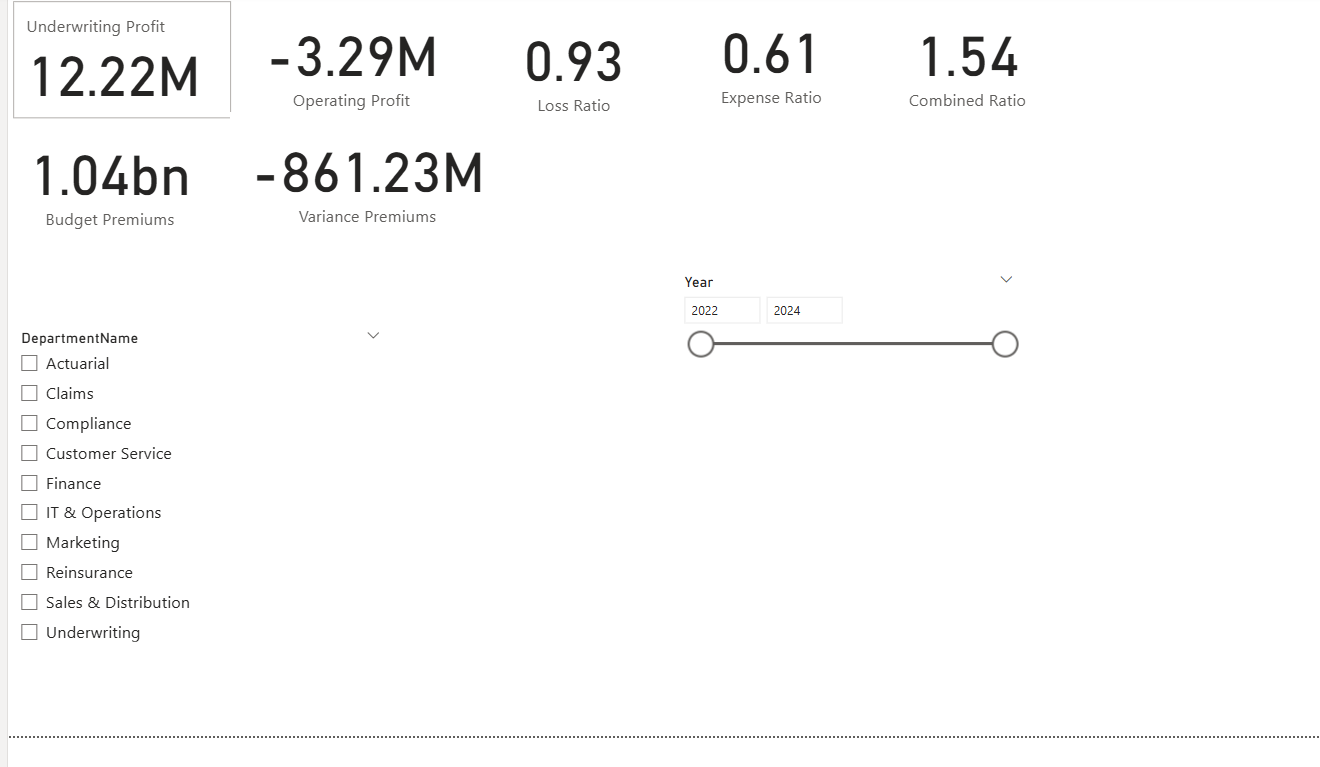

The page's visual inventory and layout, read from the dashboard file:
{"tool":"powerbi","page":{"name":"Page 1","canvas":[1280,720],"ordinal":0},"visuals":[{"type":"cardVisual","fields":{"Data":["fact_financials.Underwriting Profit"]},"box":[0,0,222.7,124.5],"z":0},{"type":"card","fields":{"Values":["fact_financials.Loss Ratio"]},"box":[445.5,9.7,210.1,114.8],"z":1000},{"type":"card","fields":{"Values":["fact_financials.Operating Profit"]},"box":[222.7,4.9,222.7,114.8],"z":2000},{"type":"card","fields":{"Values":["fact_financials.Expense Ratio"]},"box":[631.2,0,222.7,119.6],"z":3000},{"type":"card","fields":{"Values":["fact_financials.Combined Ratio"]},"box":[821.9,0,222.7,124.5],"z":4000},{"type":"card","fields":{"Values":["fact_financials.Budget Premiums"]},"box":[0,119.6,198.4,117.7],"z":5000},{"type":"card","fields":{"Values":["fact_financials.Variance Premiums"]},"box":[215.9,112.8,267.5,124.5],"z":6000},{"type":"slicer","fields":{"Values":["dim_department.DepartmentName"]},"box":[0,319,374.5,367.7],"z":6001},{"type":"slicer","fields":{"Values":["Date_month.Year"]},"box":[644.9,264.6,345.3,170.2],"z":6002}]}

Visuals, with their boxes on the page's 1280x720 design canvas (x1, y1, x2, y2). These are canvas units, not pixel positions in the 1320x767 screenshot, which may show the page scaled, cropped or inside an application window:
cardVisual - fact_financials.Underwriting Profit: bbox=(0, 0, 223, 124)
card - fact_financials.Loss Ratio: bbox=(446, 10, 656, 124)
card - fact_financials.Operating Profit: bbox=(223, 5, 445, 120)
card - fact_financials.Expense Ratio: bbox=(631, 0, 854, 120)
card - fact_financials.Combined Ratio: bbox=(822, 0, 1045, 124)
card - fact_financials.Budget Premiums: bbox=(0, 120, 198, 237)
card - fact_financials.Variance Premiums: bbox=(216, 113, 483, 237)
slicer - dim_department.DepartmentName: bbox=(0, 319, 374, 687)
slicer - Date_month.Year: bbox=(645, 265, 990, 435)
